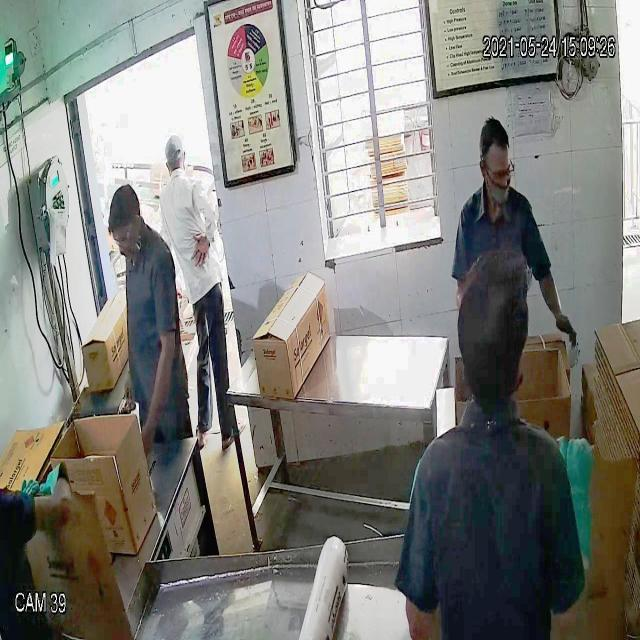glasses: (478, 152, 518, 188)
